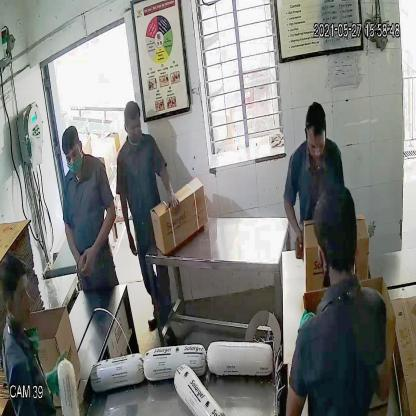no_goggles: (303, 134, 327, 155), (61, 147, 86, 166)
